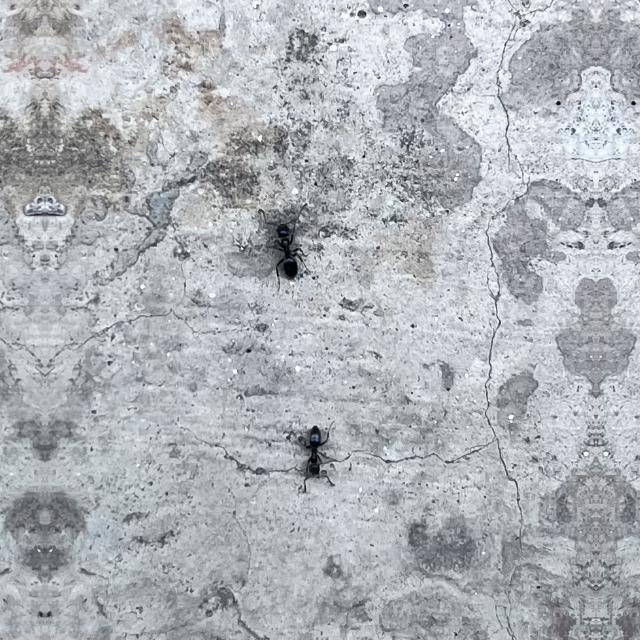Tapinoma: (264, 210, 308, 286), (294, 414, 340, 486)
